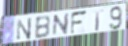9: (109, 6, 123, 31)
B: (34, 15, 51, 40)
F: (70, 9, 89, 36)
N: (51, 12, 70, 38), (17, 17, 33, 41)
T: (91, 9, 104, 32)
